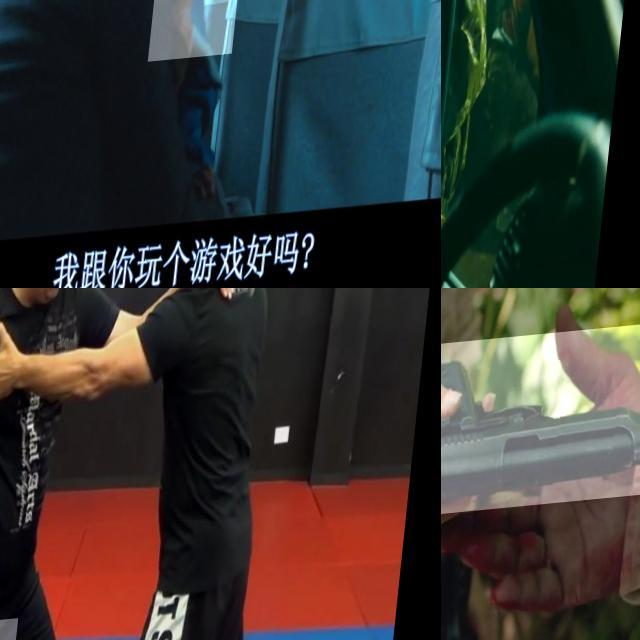gun-knife-thesis - v11 Yolov5 augmented: (441, 329, 640, 522), (441, 0, 490, 218), (156, 0, 255, 95)
